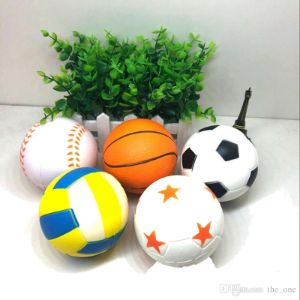baloncesto: (102, 119, 178, 195)
voleibol: (39, 167, 130, 258)
